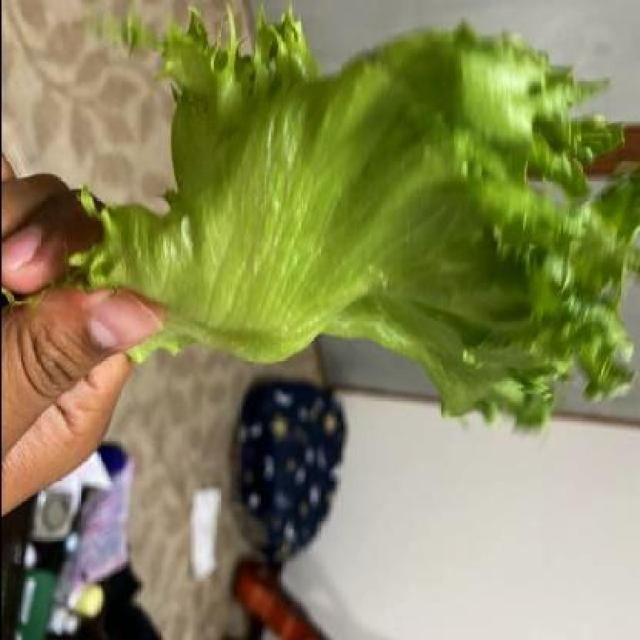Lettuce: (107, 0, 640, 427)
